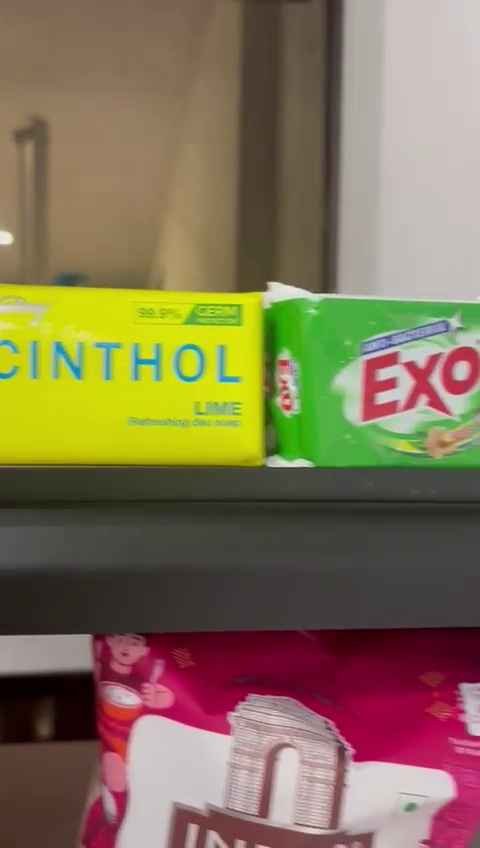Cinthol: (0, 281, 266, 460)
Exo Soap: (271, 295, 480, 465)
